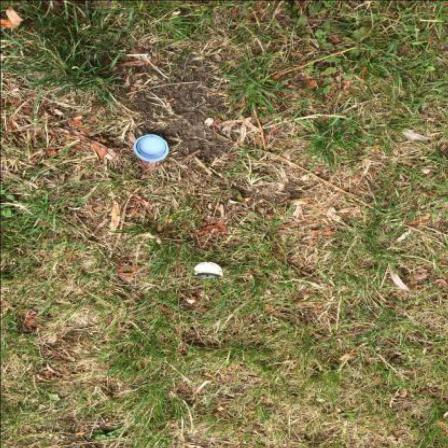Bottle cap: (135, 135, 170, 163), (193, 262, 223, 279)
